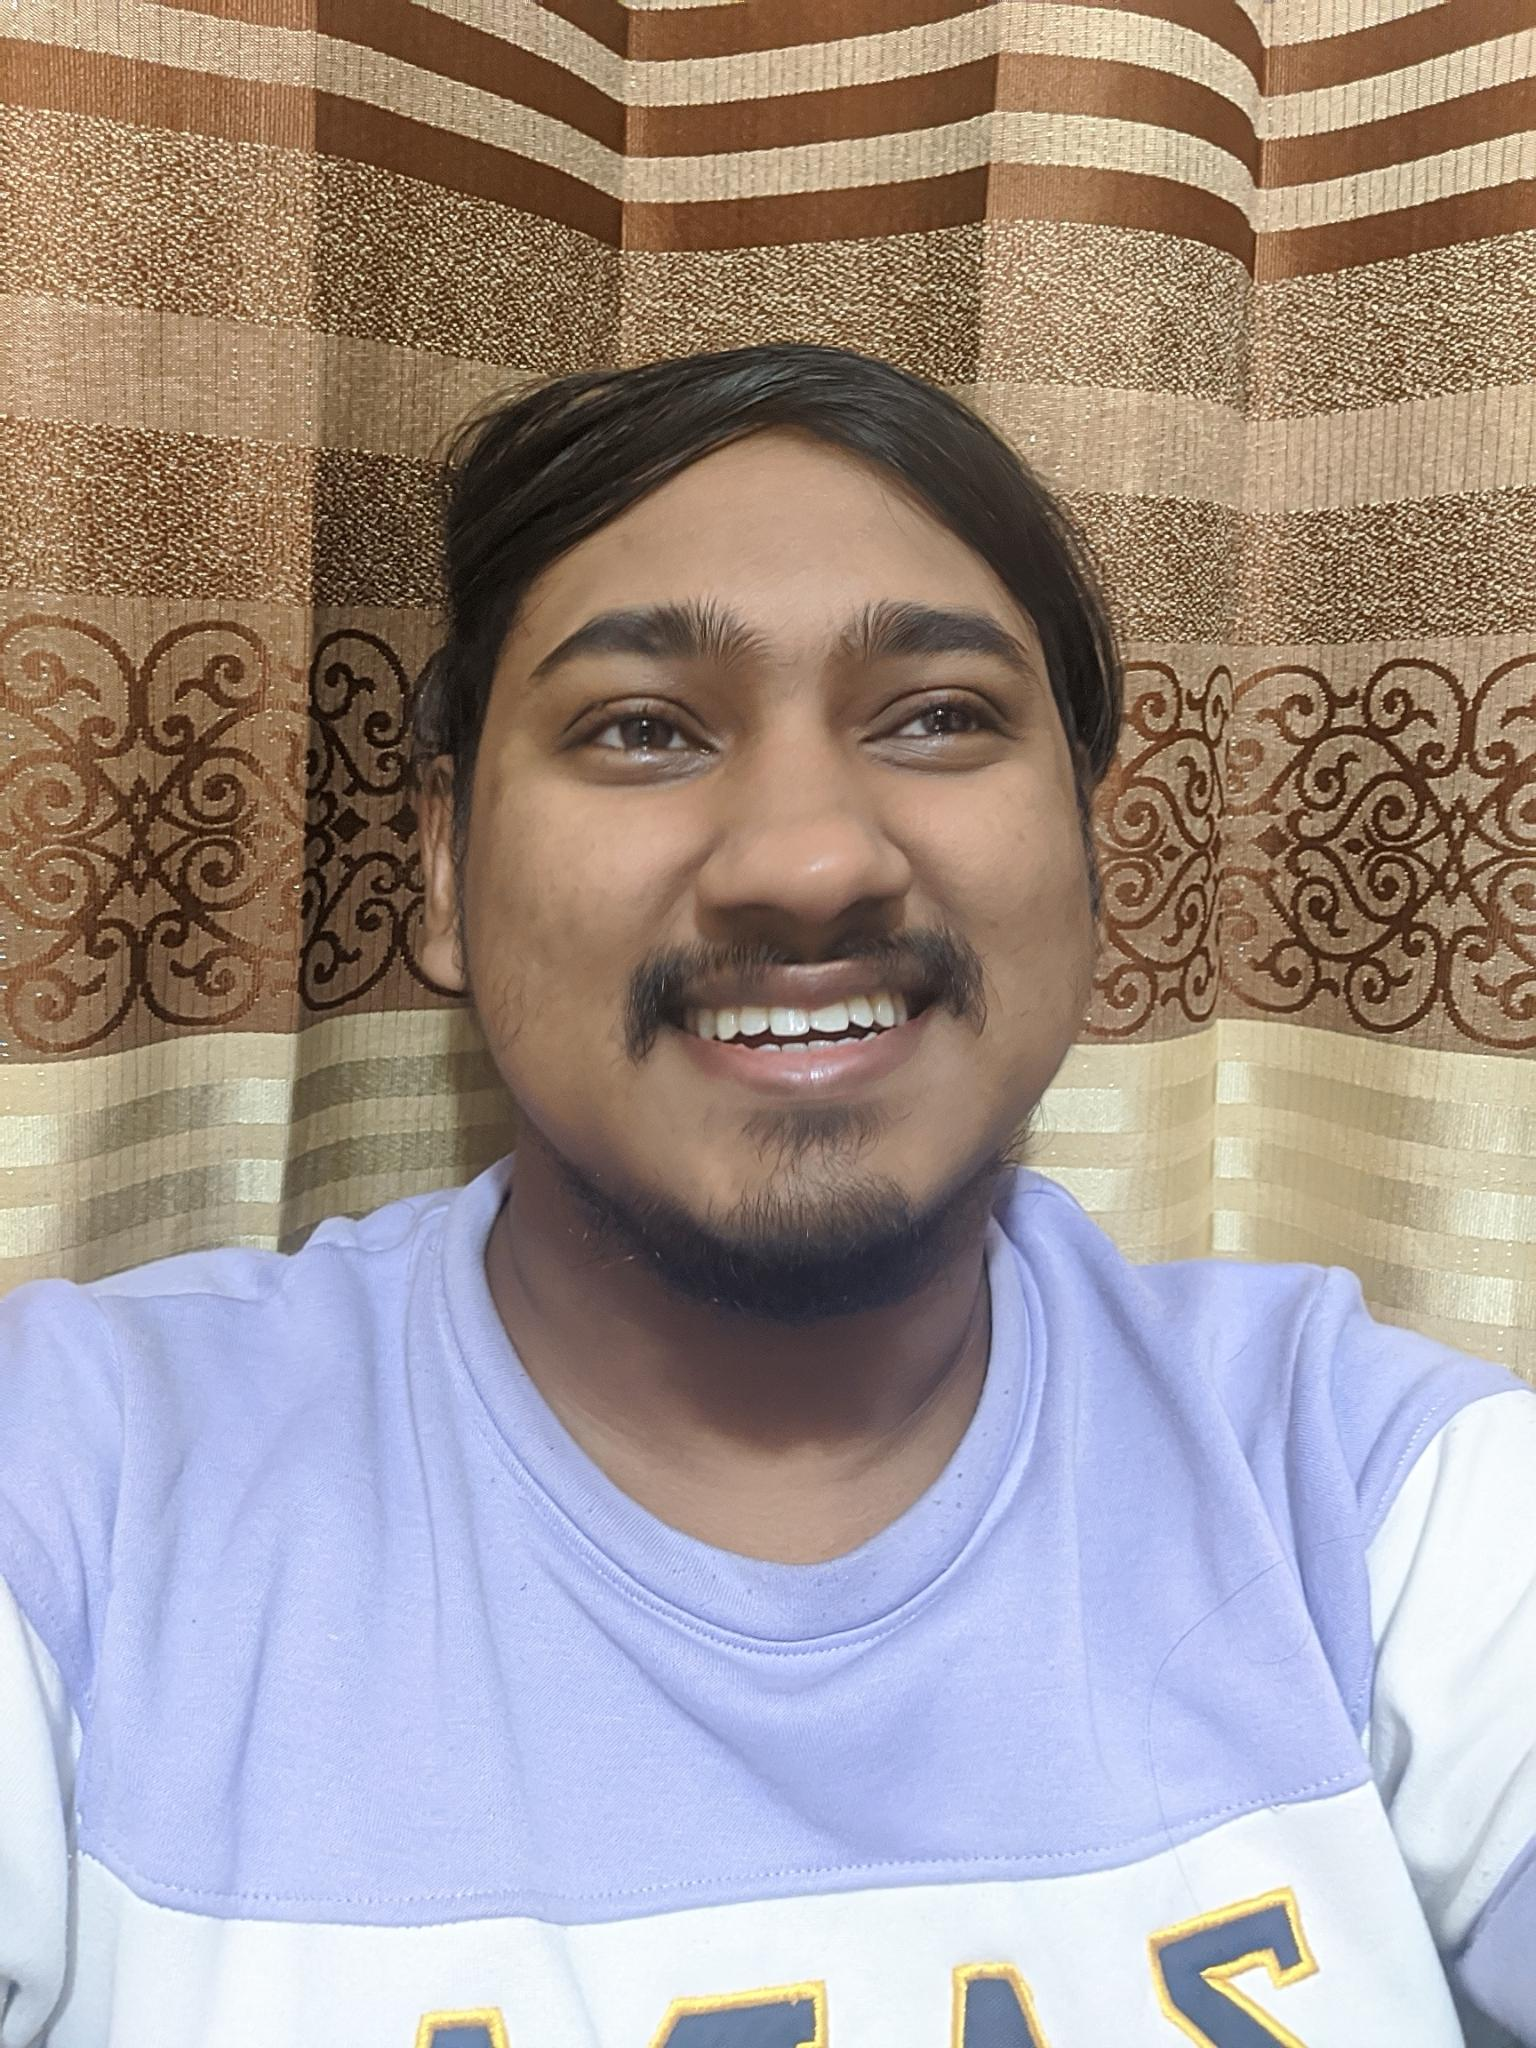Happy: (445, 543, 1123, 1255)
